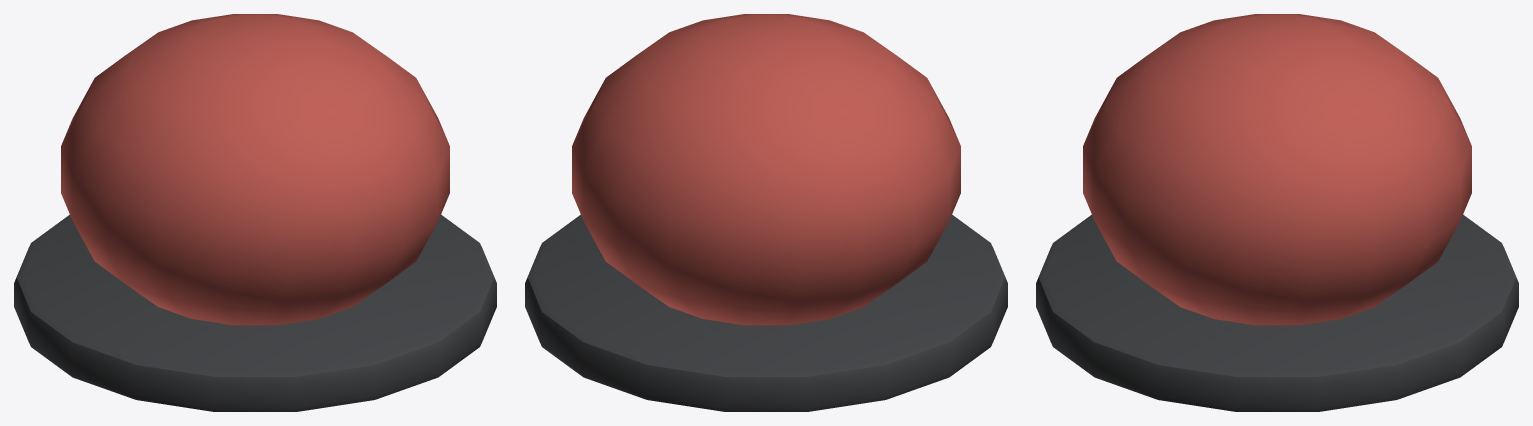
The model's file is tee_marker_red.glb.
3 renders of one model, left to right at view 1: azimuth 30°, elevation 25°; view 2: azimuth 150°, elevation 25°; view 3: azimuth 270°, elevation 25°, orthographic.
Visible parts, largest first — view 1: tee_marker_red_body; view 2: tee_marker_red_body; view 3: tee_marker_red_body.
Part boxes in pixels (left/top/right/bottom): tee_marker_red_body: left=14, top=14, right=496, bottom=411; tee_marker_red_body: left=525, top=14, right=1007, bottom=411; tee_marker_red_body: left=1036, top=14, right=1518, bottom=411.
Bounding box in the file's own units: 0.2167 × 0.1405 × 0.22.
